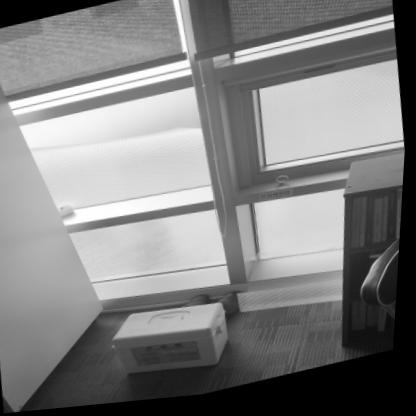DDL: (109, 295, 237, 390)
